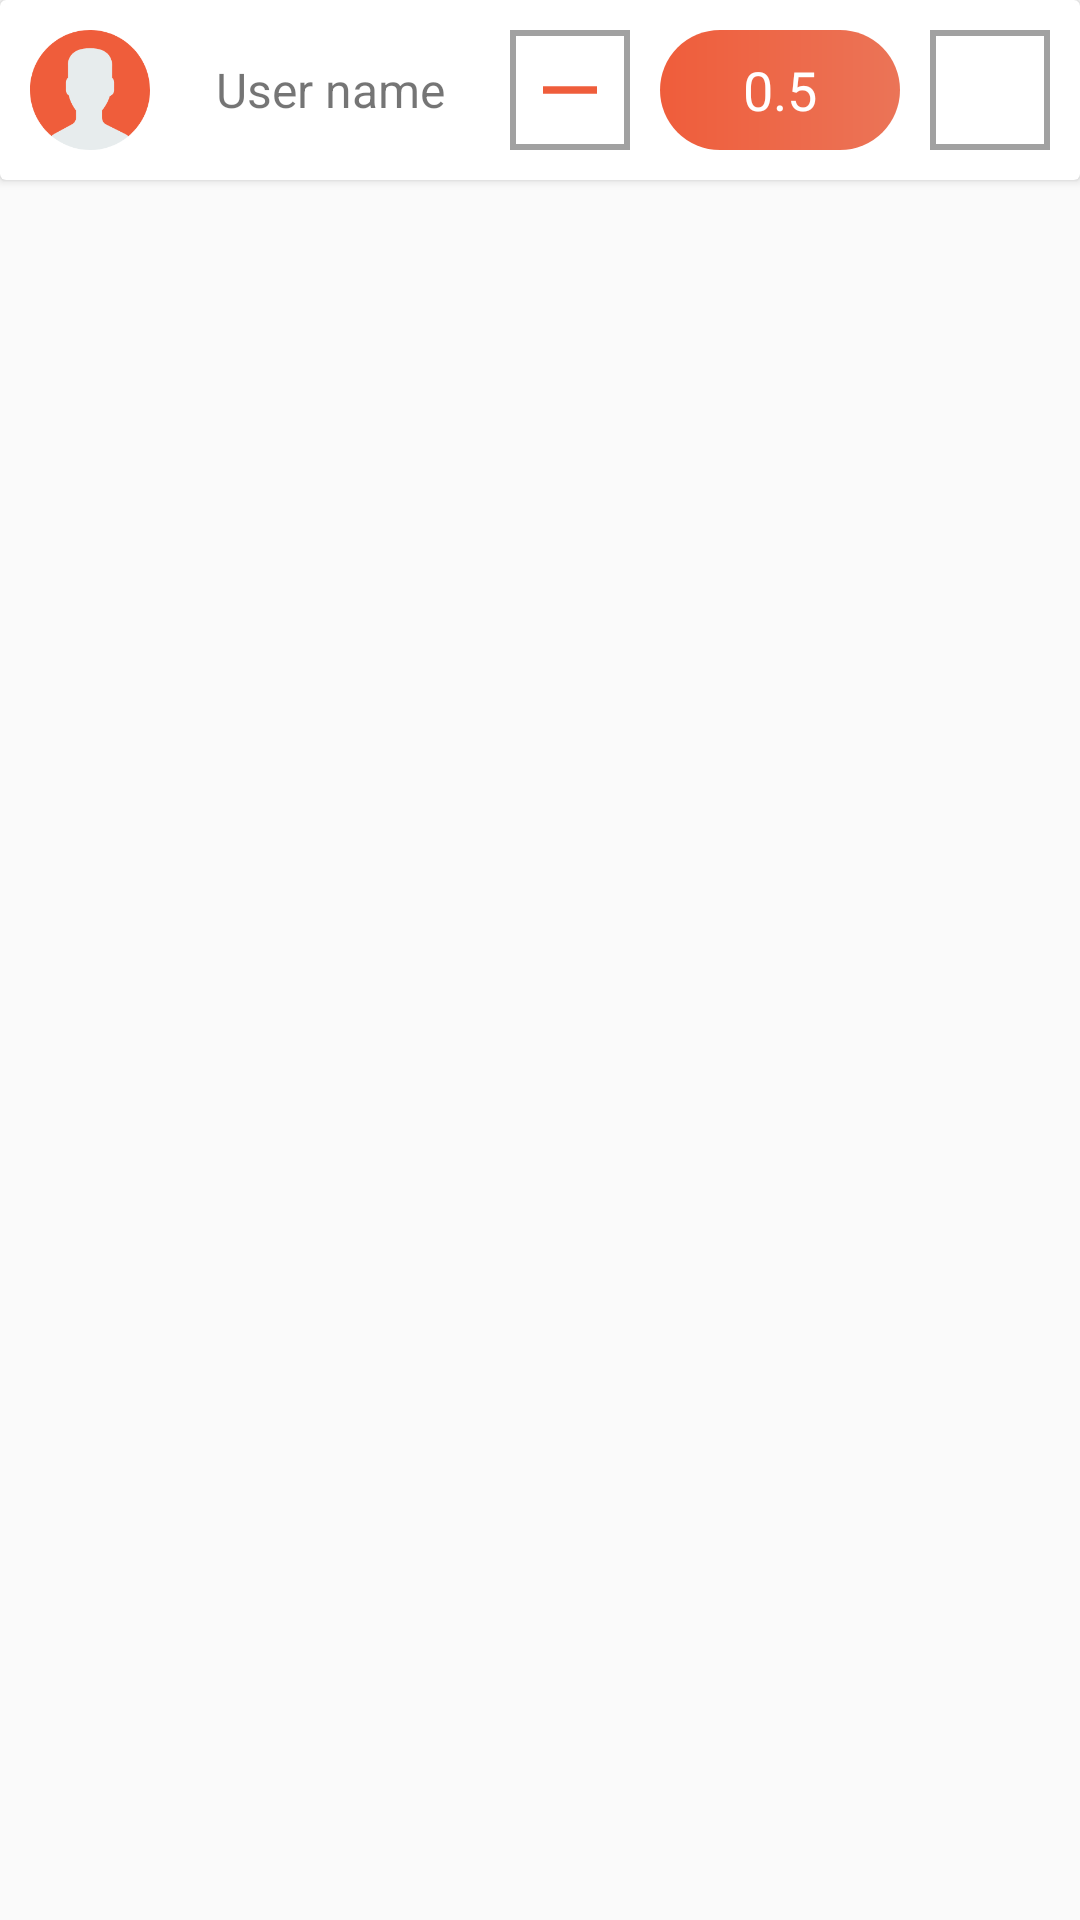

Icons on this 1080×1920 Android screen, each with the point to tap as (x=x, y=y):
remove: (x=570, y=90)
